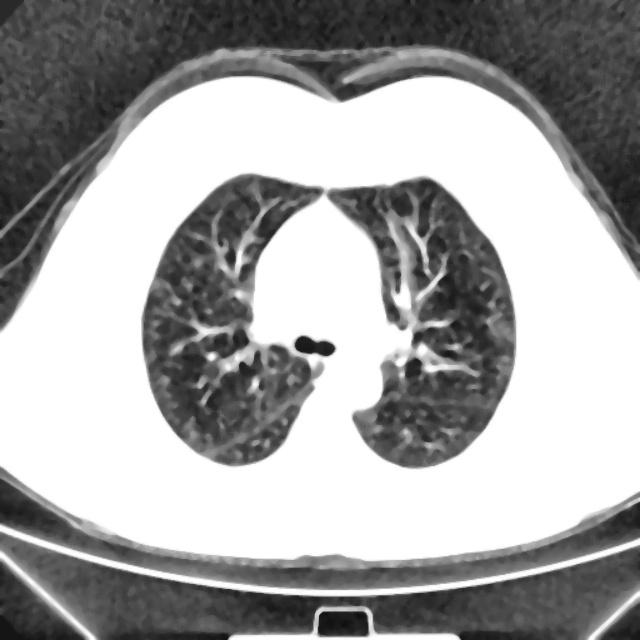covid: (140, 170, 517, 470)
